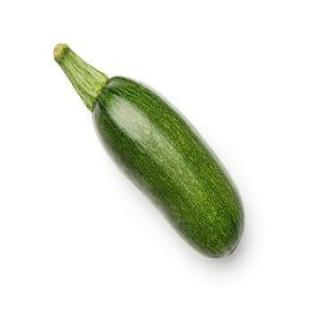Zucchini: (54, 45, 243, 256)
